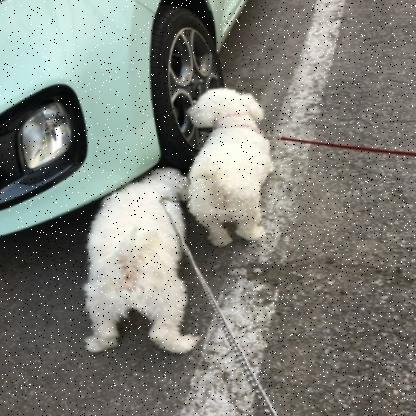dog: (93, 158, 205, 353), (182, 89, 278, 245)
